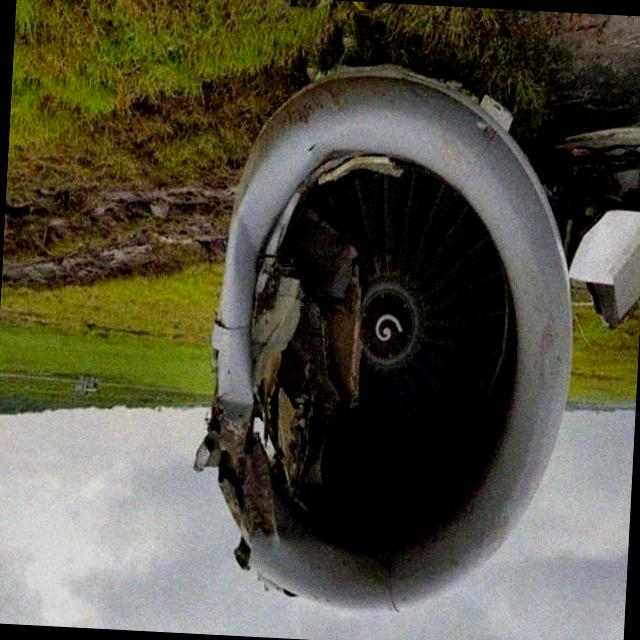dent: (227, 145, 271, 315), (217, 372, 254, 423)
